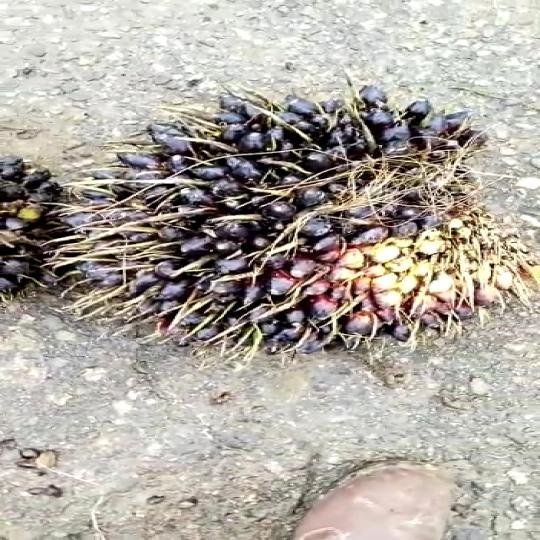mentah: (108, 73, 534, 369)
